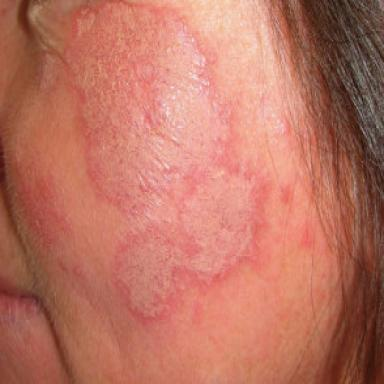Lupus-Erythematosus-Chronicus-Discoides: (63, 3, 269, 317)
